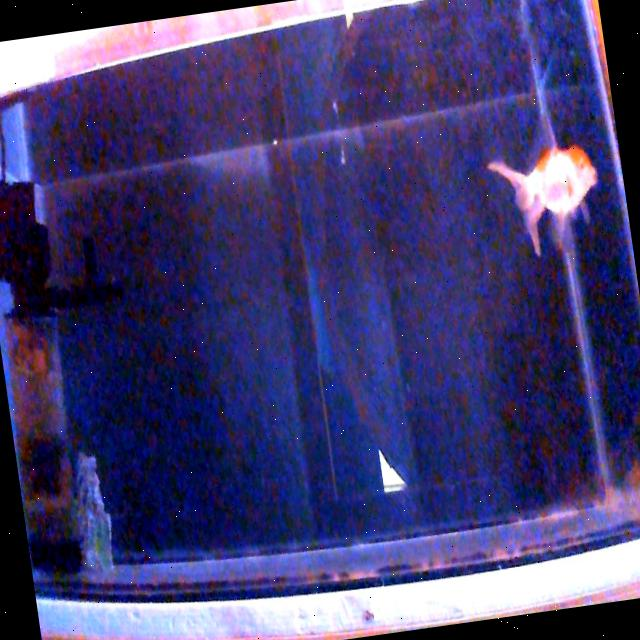fish: (488, 146, 597, 255)
